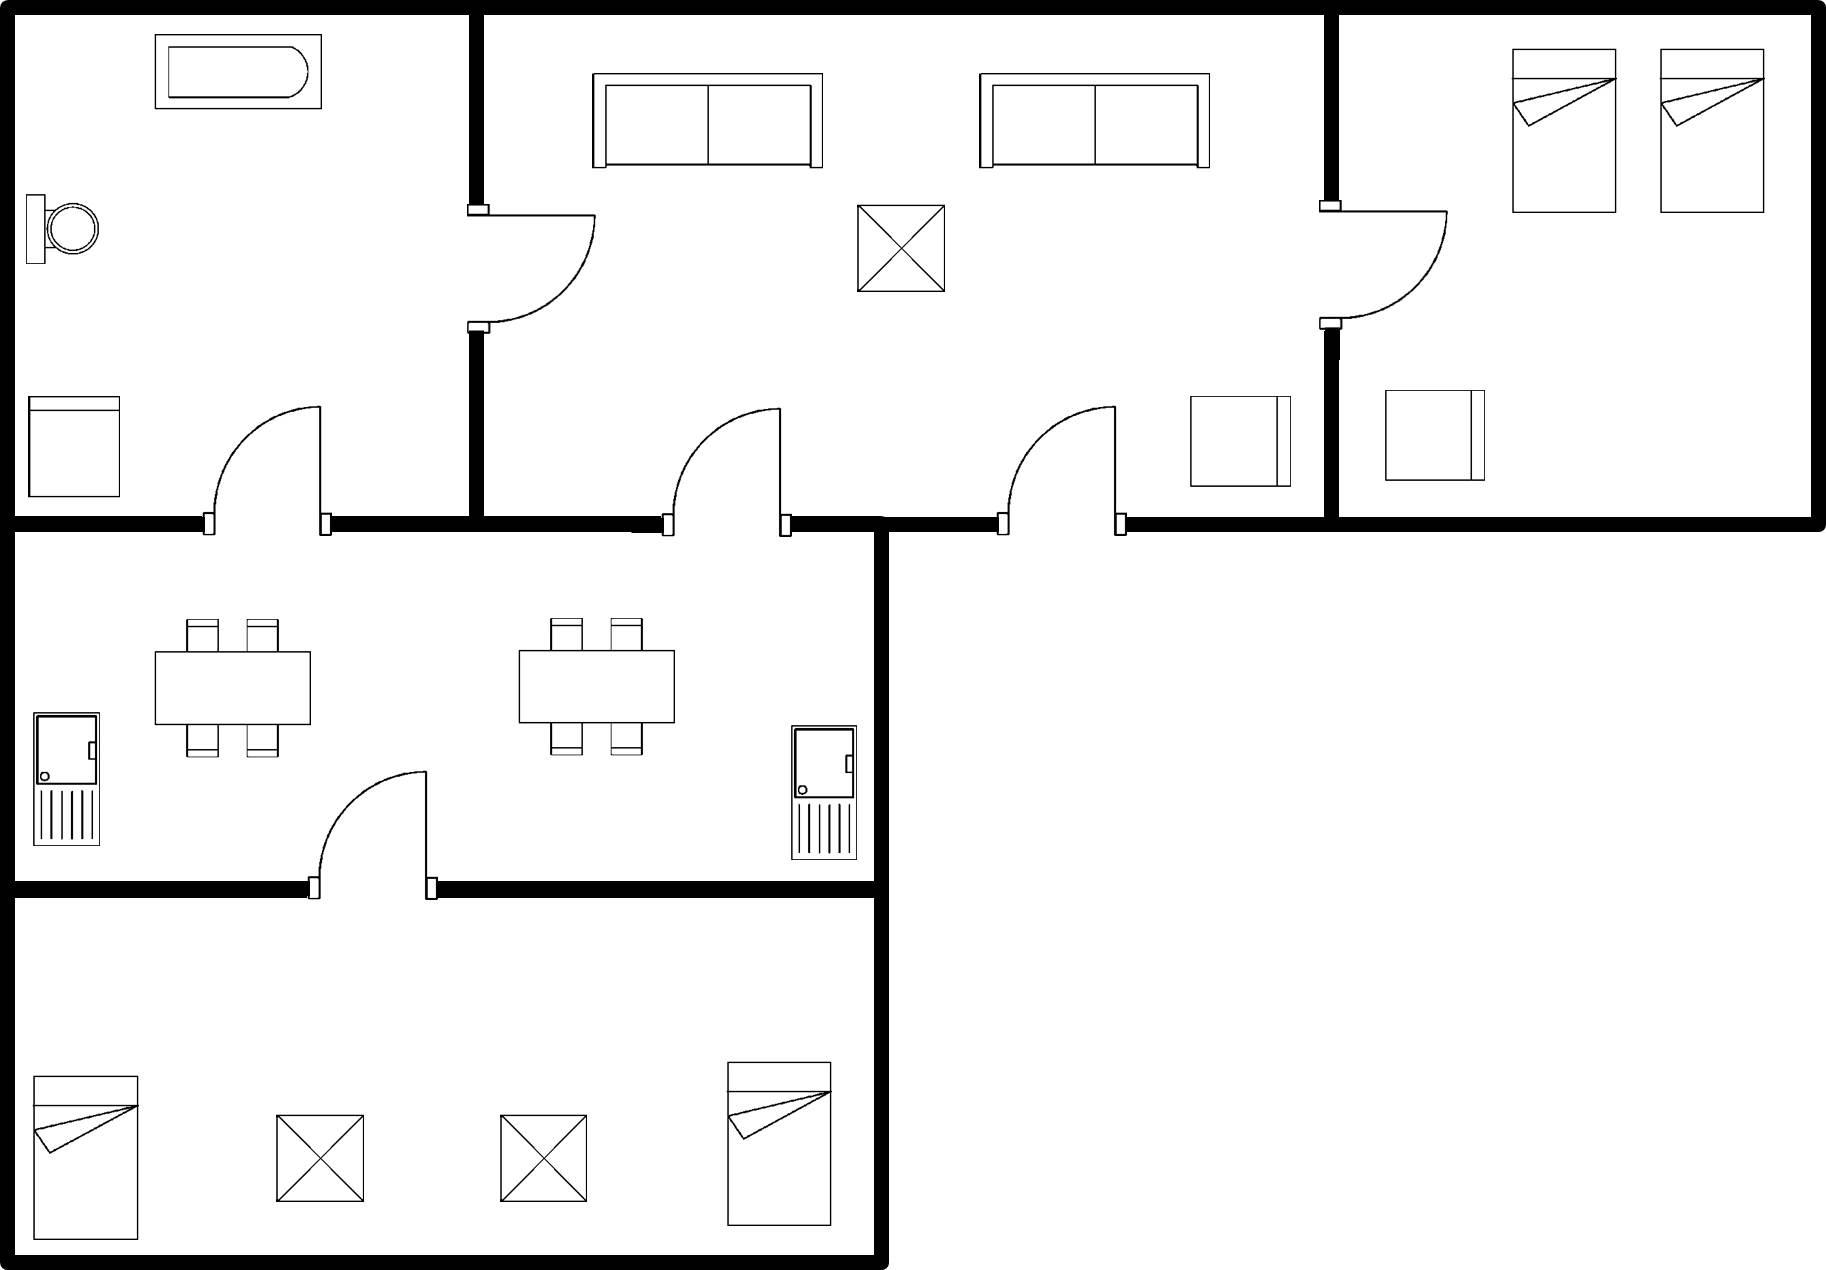bed: (1651, 37, 1776, 223), (713, 1049, 838, 1233), (1501, 36, 1625, 221), (24, 1065, 150, 1245)
dining_table: (147, 607, 321, 768), (511, 608, 684, 763)
sink: (783, 715, 864, 872), (25, 706, 111, 855)
sofa: (969, 64, 1215, 179), (584, 67, 833, 178)
toilet: (19, 182, 107, 275)
tub: (146, 24, 337, 121)
